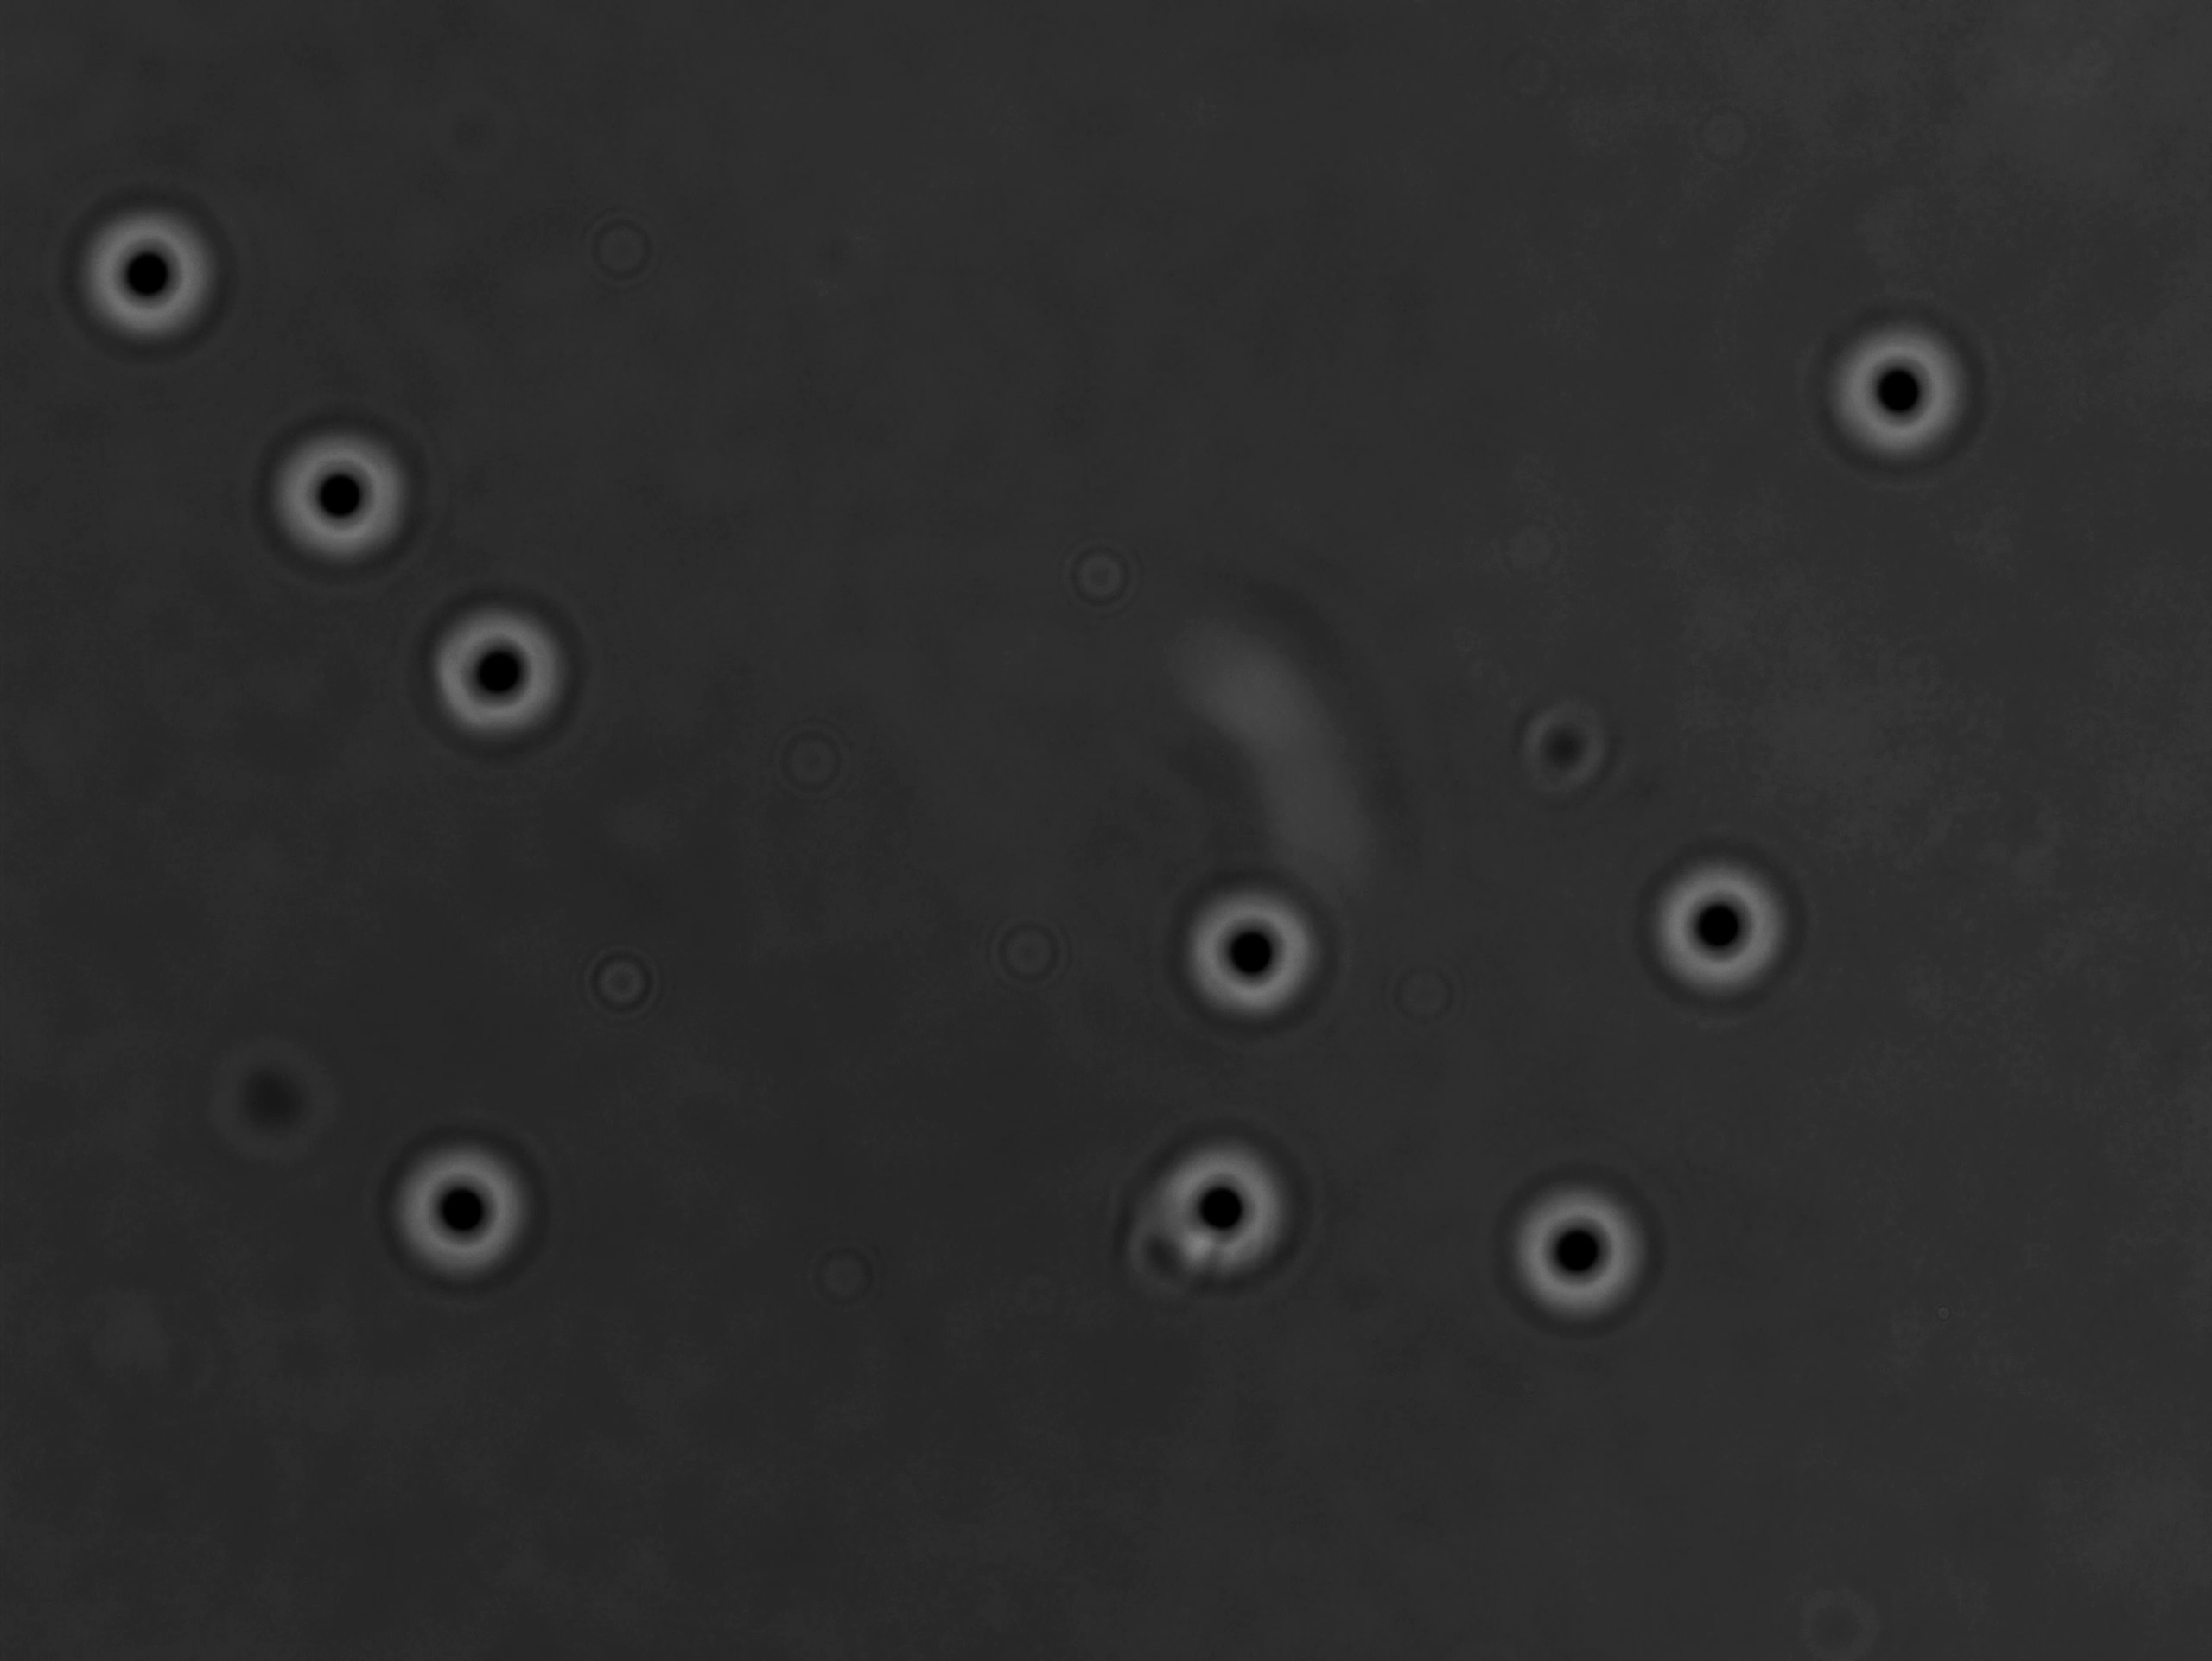depth:-40: (372, 1108, 551, 1293), (249, 400, 433, 578), (63, 192, 239, 351), (1150, 1118, 1319, 1282), (1809, 312, 1980, 473), (420, 588, 593, 743), (1174, 872, 1340, 1033), (1647, 851, 1809, 1014), (1495, 1176, 1661, 1328)
